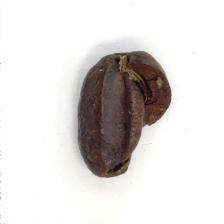NG: (102, 51, 170, 178)
